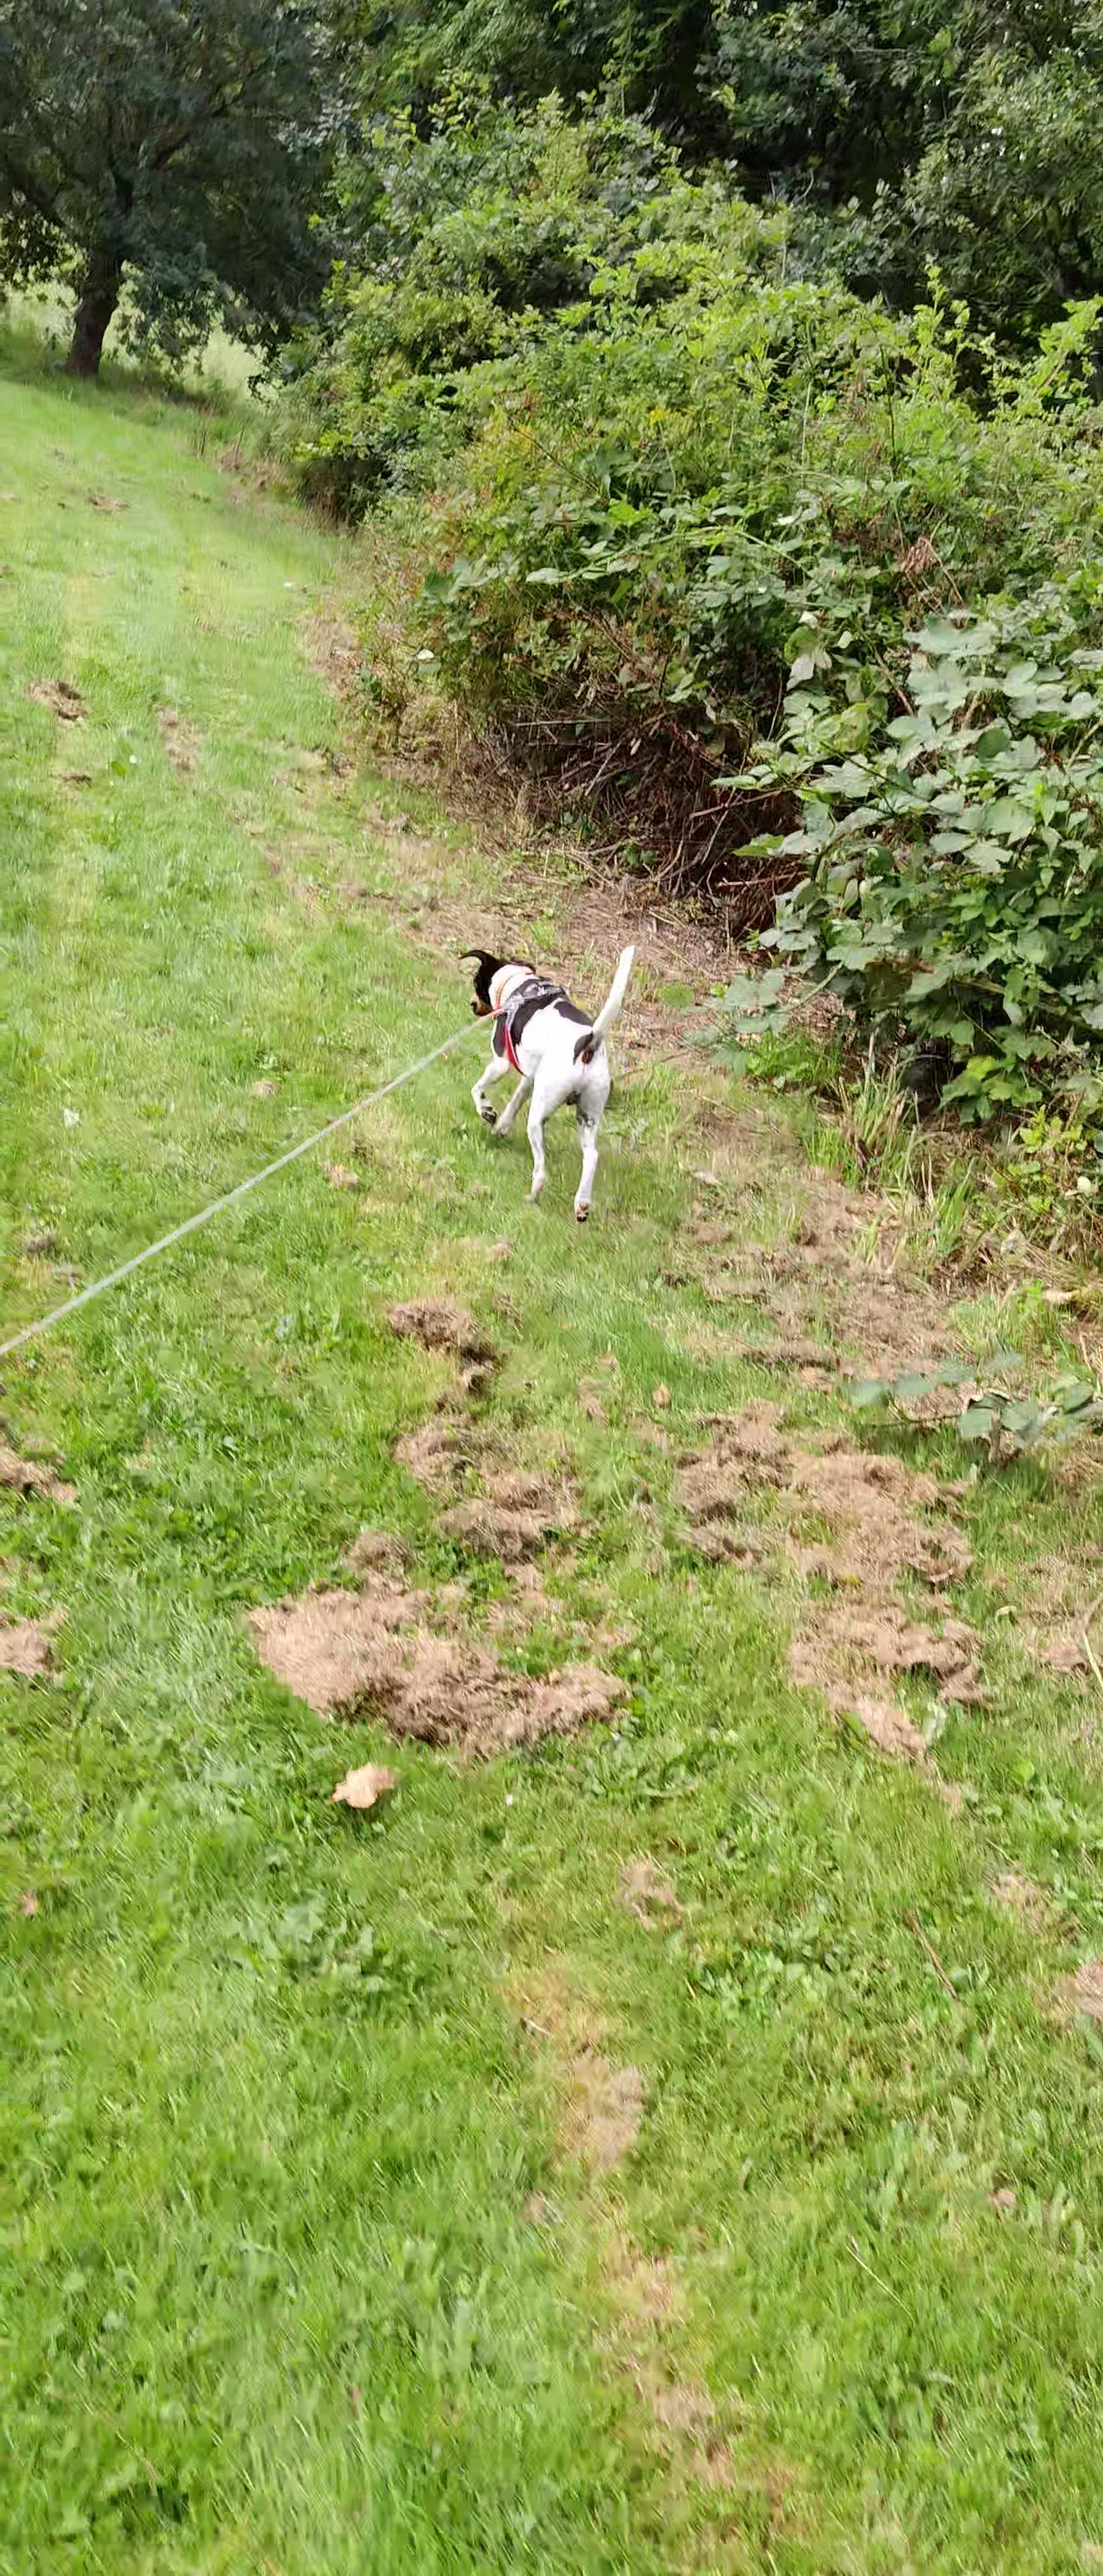Dog: (452, 936, 639, 1227)
